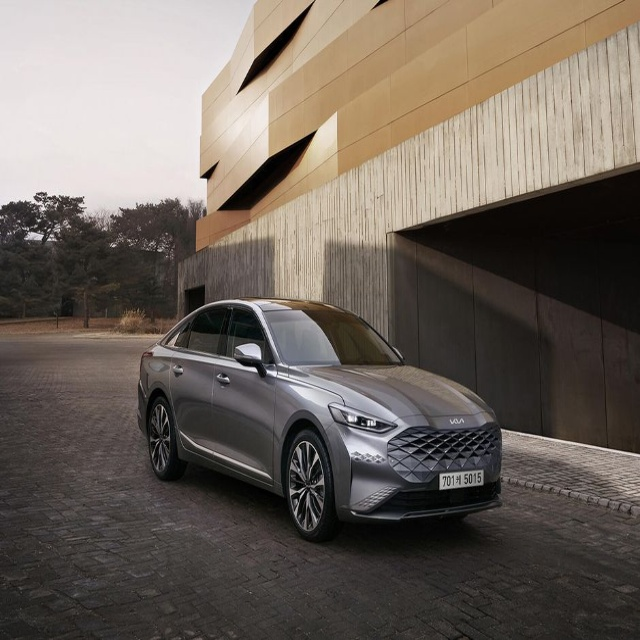Car: (136, 296, 501, 546)
